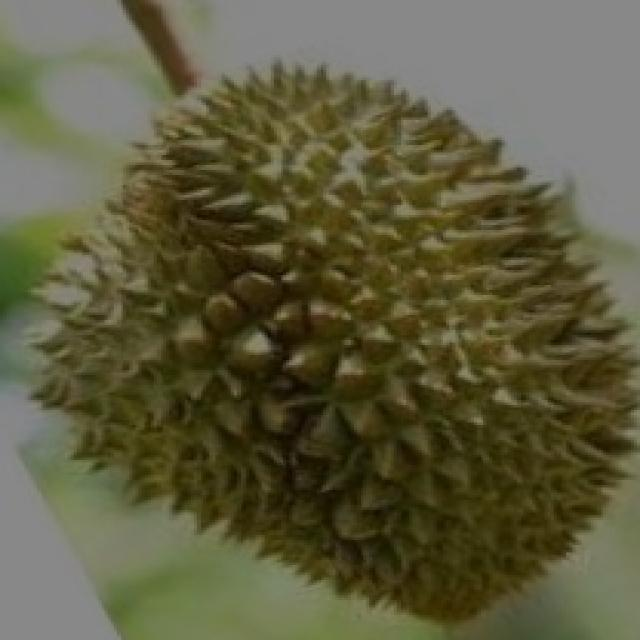fruit: (255, 250, 640, 640), (0, 233, 369, 625)
